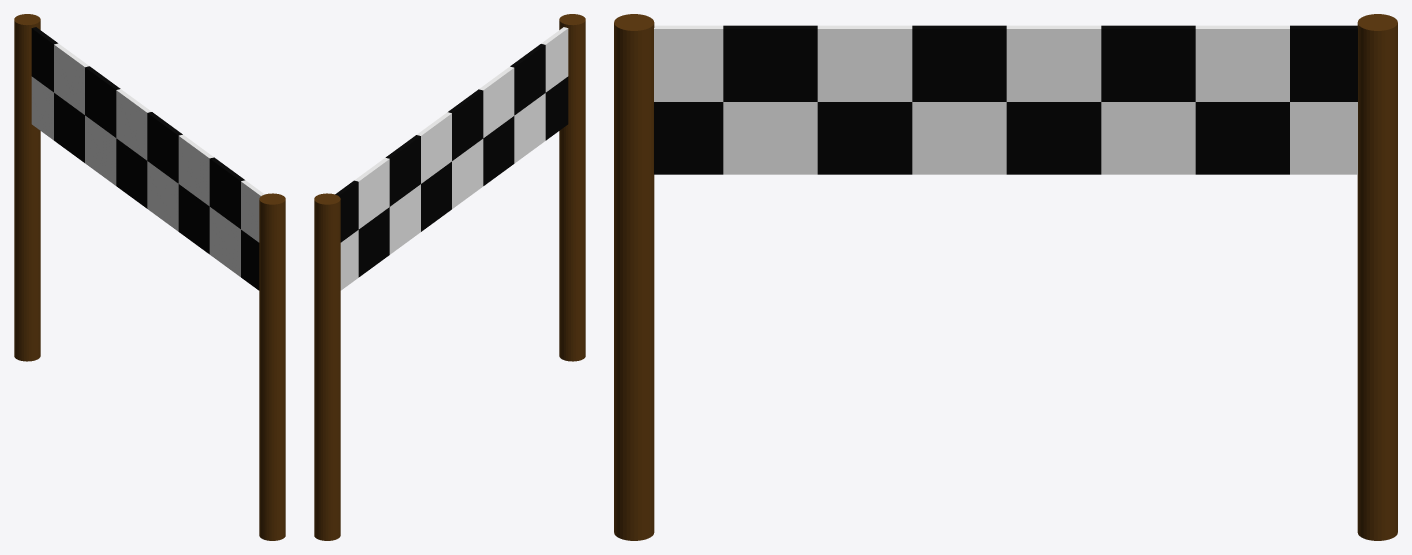
The model's file is finish line.fbx.
3 views of the same model, side by side, from view 1: azimuth 30°, elevation 25°; view 2: azimuth 150°, elevation 25°; view 3: azimuth 270°, elevation 25° (orthographic). The views are drawn at different scales.
Visible parts, largest first — view 1: Cube, Cylinder, Cylinder.001; view 2: Cube, Cylinder.001, Cylinder; view 3: Cube, Cylinder, Cylinder.001.
Boxes of the visible parts, <box> form: Cube: <box>31,27,264,290</box>; Cylinder: <box>259,193,285,540</box>; Cylinder.001: <box>14,14,40,361</box>; Cube: <box>335,27,568,290</box>; Cylinder.001: <box>314,193,340,540</box>; Cylinder: <box>559,14,585,361</box>; Cube: <box>654,25,1357,174</box>; Cylinder: <box>614,14,654,540</box>; Cylinder.001: <box>1357,14,1397,540</box>.
Size of the model in its own units: 10 by 140 by 195.
